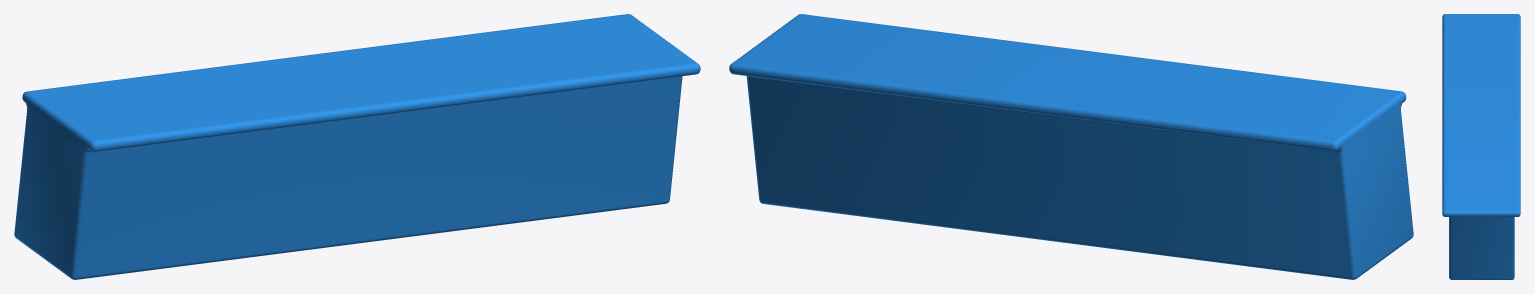
File: BigKey1Pressed.fbx
The picture shows the model from 3 angles, left to right: view 1: azimuth 30°, elevation 25°; view 2: azimuth 150°, elevation 25°; view 3: azimuth 270°, elevation 25°; orthographic projection. The views are drawn at different scales.
Parts seen in each view (by area): view 1: Cube.002; view 2: Cube.002; view 3: Cube.002.
Boxes of the visible parts, x1,y1,x2,y2 form: Cube.002: (14, 14, 700, 279); Cube.002: (729, 14, 1413, 279); Cube.002: (1442, 14, 1520, 279).
Size of the model in its own units: 697 by 222 by 139.
